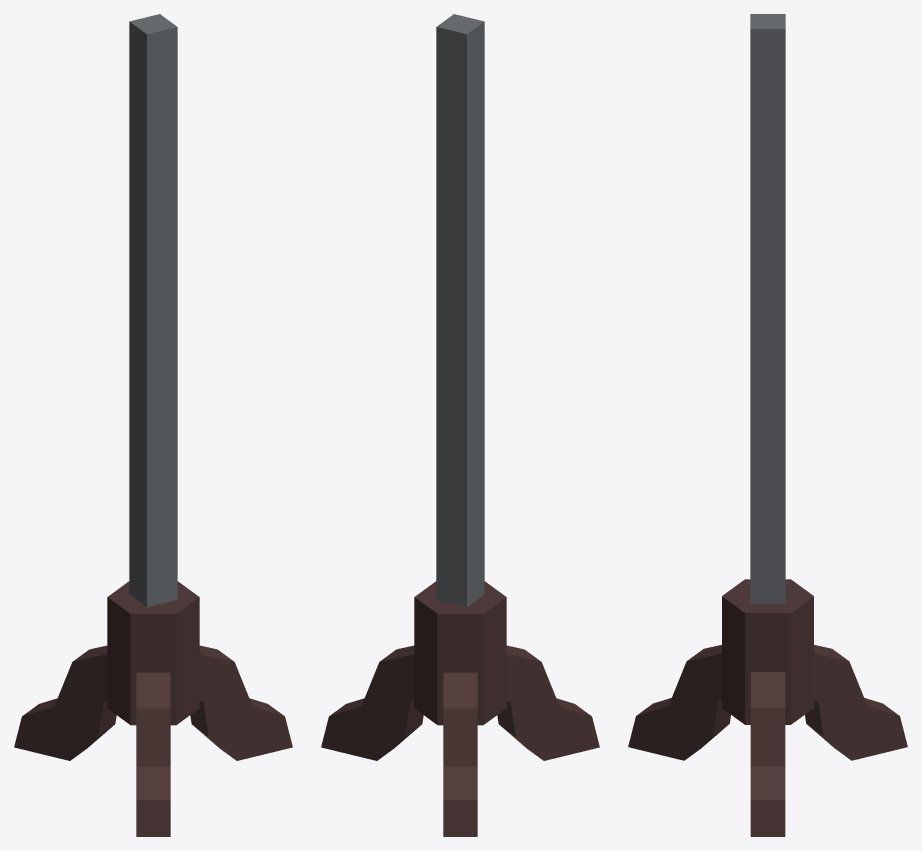
Rendered from LightGreyMetalDecorationSmallCoatStand1.fbx.
3 renders of one model, left to right at view 1: azimuth 30°, elevation 25°; view 2: azimuth 150°, elevation 25°; view 3: azimuth 270°, elevation 25°, orthographic.
Parts seen in each view (by area): view 1: WoodenFeet, MetalPole; view 2: WoodenFeet, MetalPole; view 3: WoodenFeet, MetalPole.
Boxes of the visible parts, <box> form: WoodenFeet: <box>14,581,292,836</box>; MetalPole: <box>129,14,177,606</box>; WoodenFeet: <box>321,581,599,836</box>; MetalPole: <box>436,14,484,606</box>; WoodenFeet: <box>628,579,907,836</box>; MetalPole: <box>750,14,785,603</box>.
Size of the model in its own units: 99.71 by 341 by 115.
